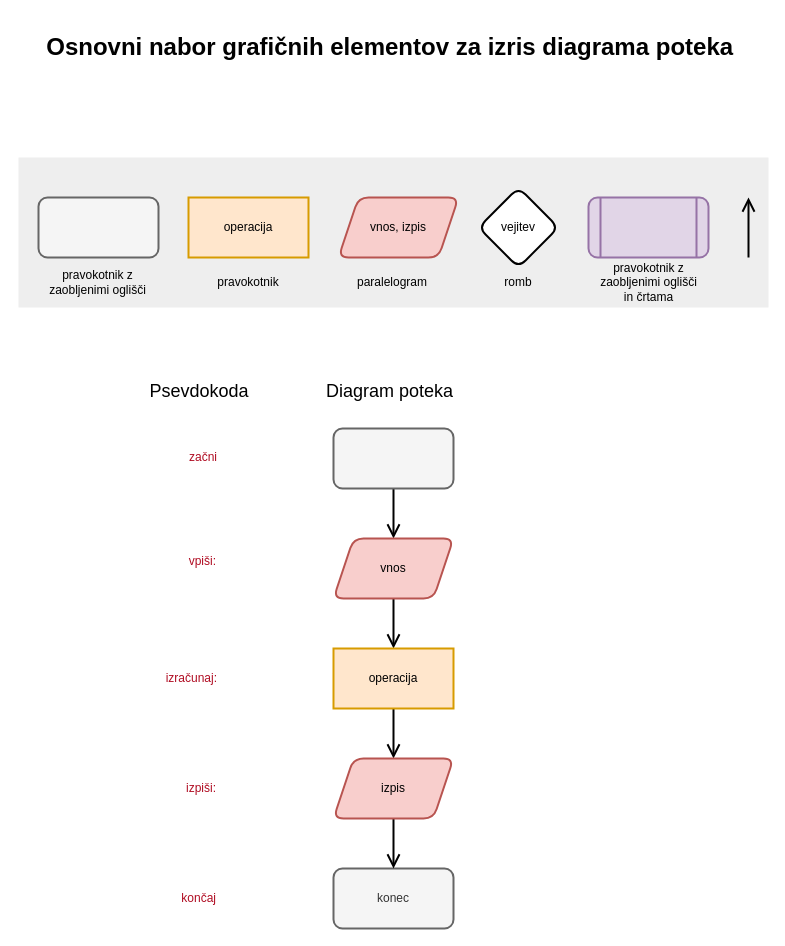
This 785x946 diagram has some shape labels left out. The shapes that lost their labels are listed below. From the top down, each one's centre as x and y in pixels, then its label:
pixel 98 227: začetek, konec
pixel 648 227: funkcija
pixel 393 458: začetek
